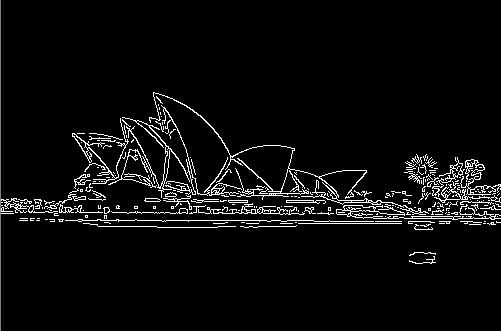opera house: (54, 88, 384, 213)
